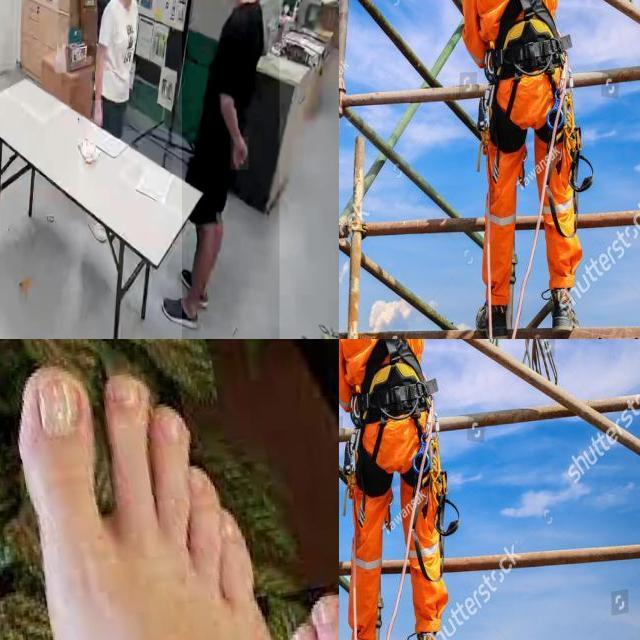Barefoots: (8, 362, 285, 640)
Harness: (351, 339, 436, 428), (485, 0, 570, 84)
hand_noglove: (231, 136, 249, 170), (92, 100, 104, 127)
person: (182, 0, 280, 339), (93, 0, 140, 140)
shoes: (177, 261, 210, 308), (161, 294, 201, 332)
